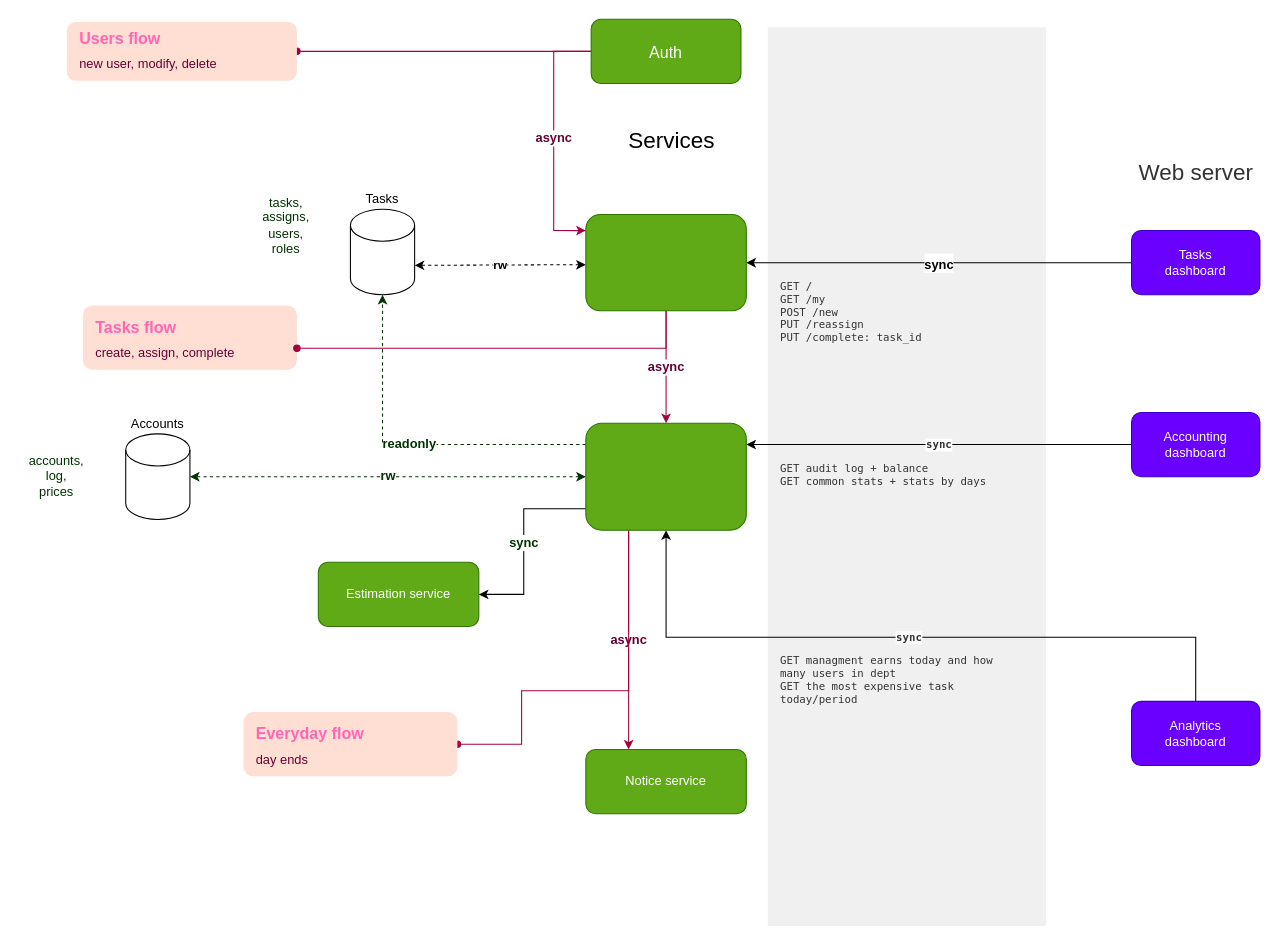
This 1279x944 diagram has some shape labels left out. Here are the shapes that lost their labels. From the top down, the centre of each, then its label:
At (665,262): "Tasks service".
At (665,476): "Accounting service".
